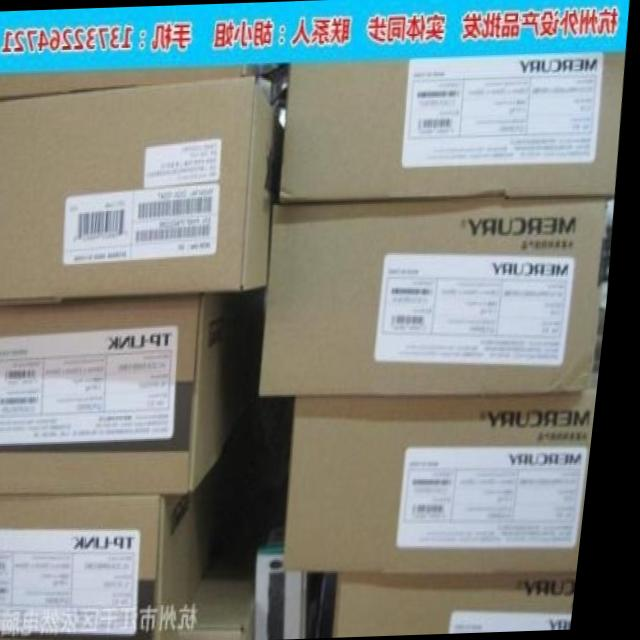box: (267, 197, 613, 396), (0, 397, 267, 640), (0, 76, 287, 299), (296, 373, 607, 573), (0, 286, 272, 491), (282, 53, 626, 201), (348, 571, 590, 635)
